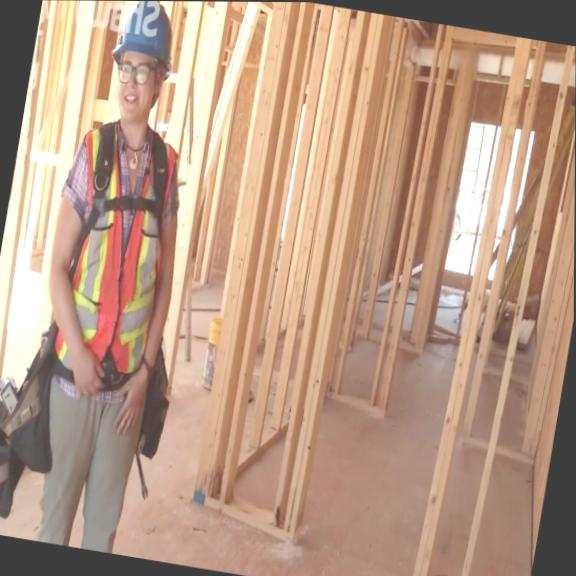safety_vest: (42, 115, 185, 382)
